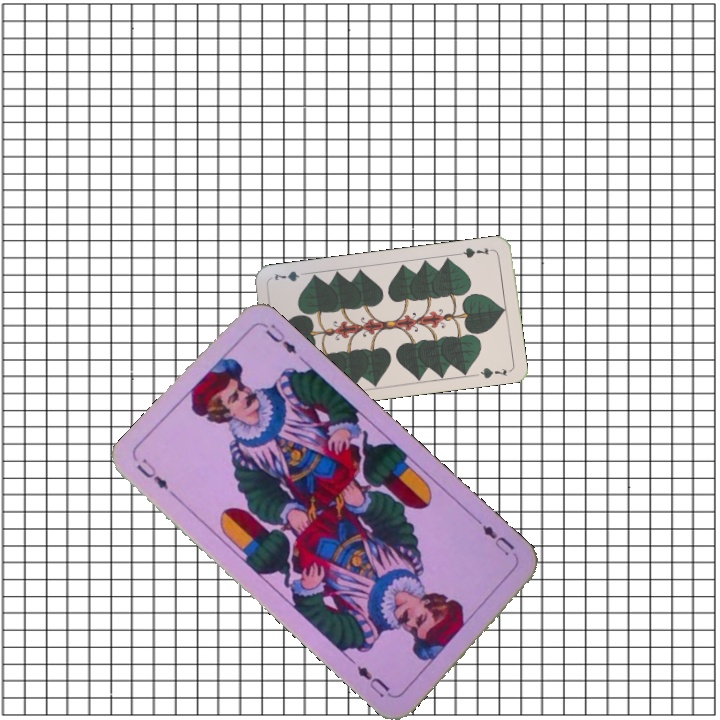EU: (478, 520, 518, 559), (132, 454, 171, 492)
G7: (456, 243, 496, 261)
